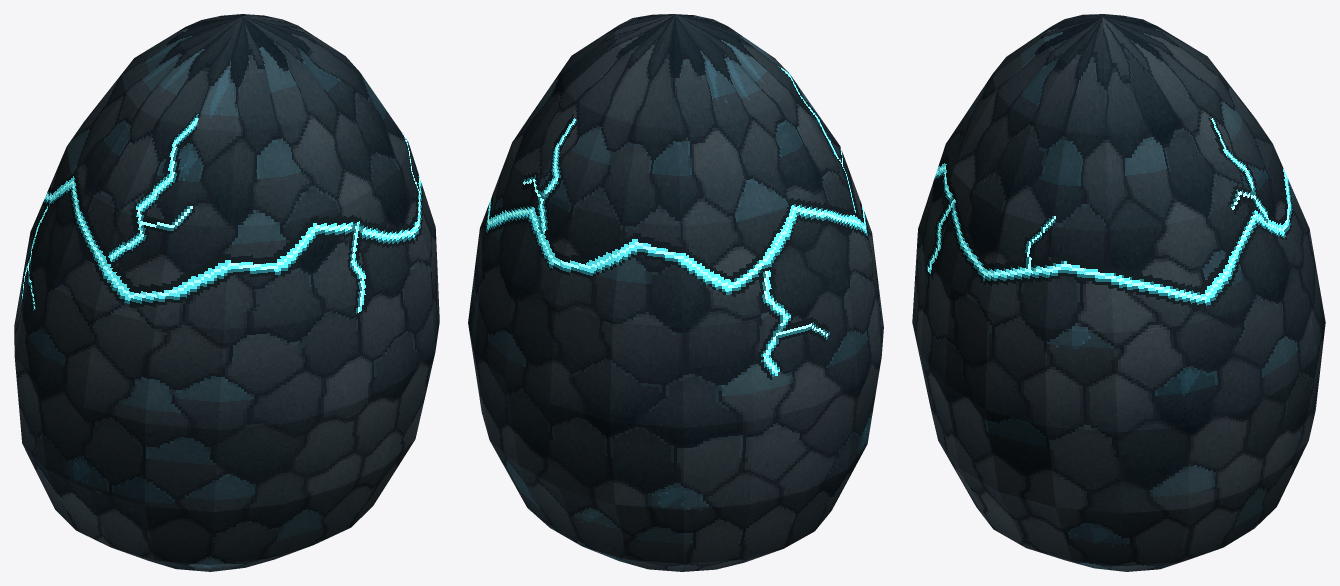
Rendered from ancient_dragon_egg_cracked.glb.
3 views of the same model, side by side, from view 1: azimuth 30°, elevation 25°; view 2: azimuth 150°, elevation 25°; view 3: azimuth 270°, elevation 25° (orthographic). The views are drawn at different scales.
Visible parts, largest first — view 1: Ancient Dragon Egg - Cracked; view 2: Ancient Dragon Egg - Cracked; view 3: Ancient Dragon Egg - Cracked.
Part boxes in pixels (x1,y1,x2,y2): Ancient Dragon Egg - Cracked: (14,14,439,571); Ancient Dragon Egg - Cracked: (468,14,883,571); Ancient Dragon Egg - Cracked: (912,14,1325,571).
Size of the model in its own units: 0.536 by 0.702 by 0.5067.
1 material, 1 textured.
